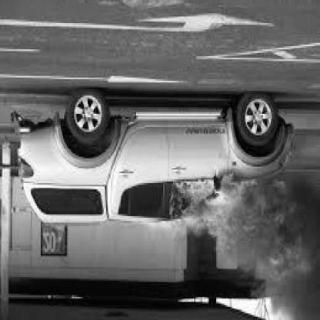Fire: (165, 176, 303, 278)
Smoke: (254, 184, 318, 320)
